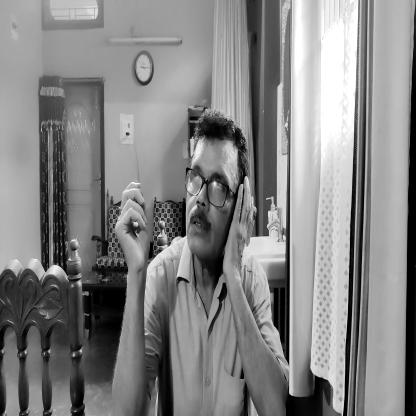Distracted: (182, 108, 244, 266)
